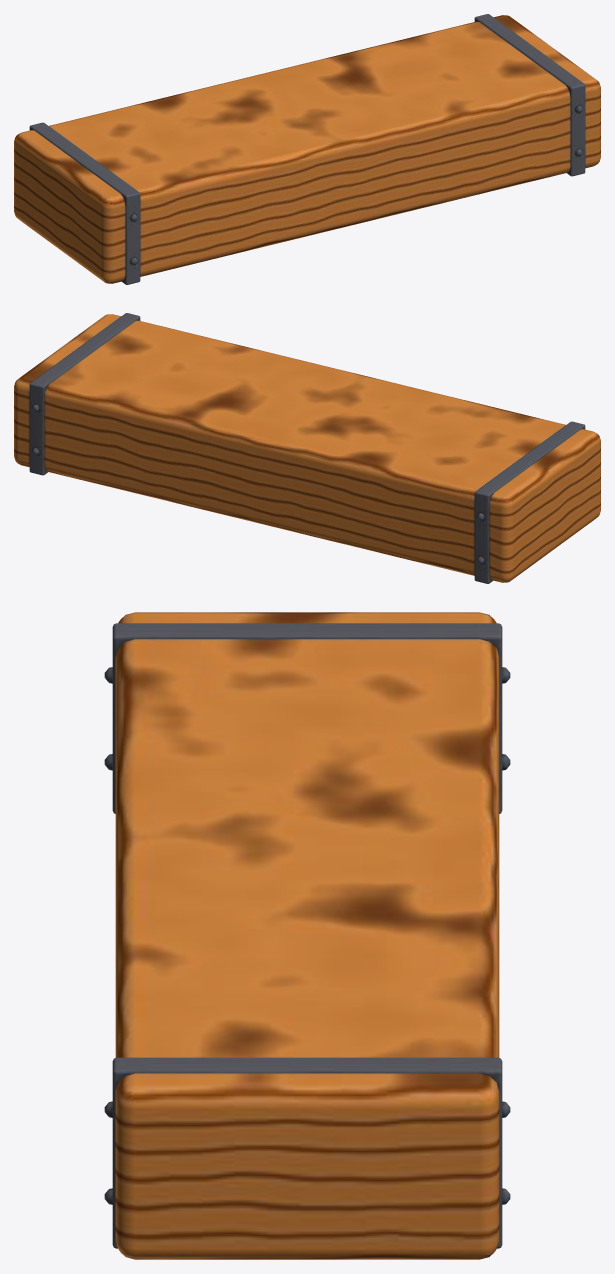
Rendered from kalas3.glb.
3 views of the same model, one above another, from view 1: azimuth 30°, elevation 25°; view 2: azimuth 150°, elevation 25°; view 3: azimuth 270°, elevation 25° (orthographic). The views are drawn at different scales.
Visible parts, largest first — view 1: kalas; view 2: kalas; view 3: kalas.
Boxes of the visible parts, box(x1,y1,x2,y2) form: kalas: box(14, 14, 600, 284); kalas: box(14, 313, 600, 583); kalas: box(104, 612, 510, 1259).
Bounding box in the file's own units: 3 × 0.516 × 1.06.
Materials: 2 (2 with a texture image).
